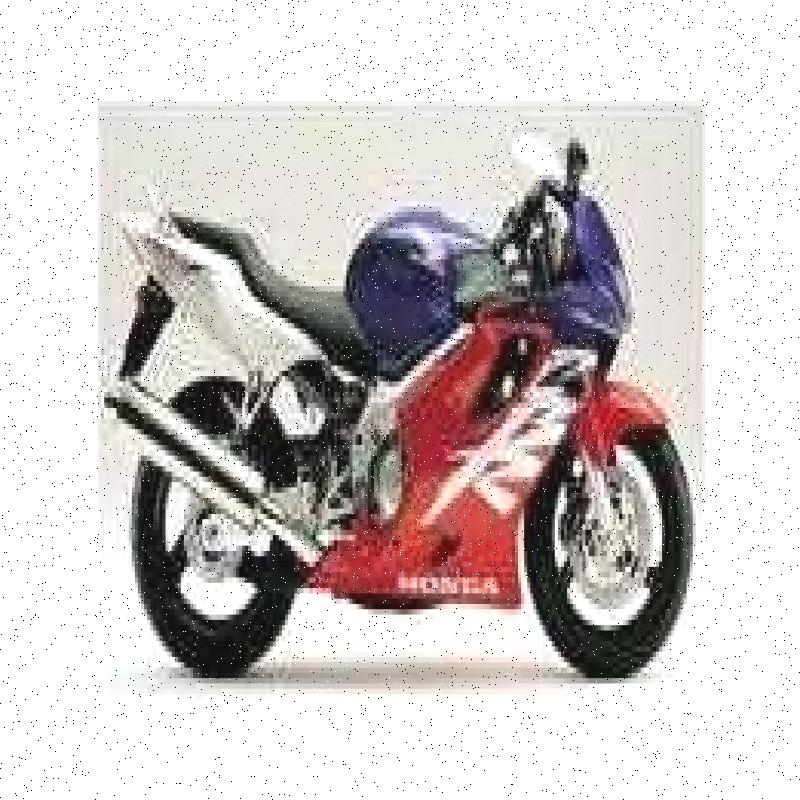bike: (113, 104, 692, 664)
